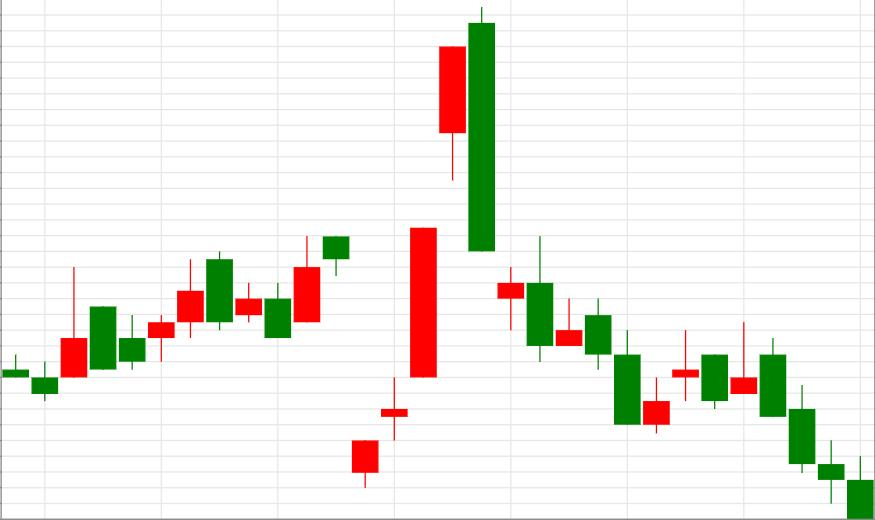bearish_engulfing_fall: (352, 8, 495, 488)
